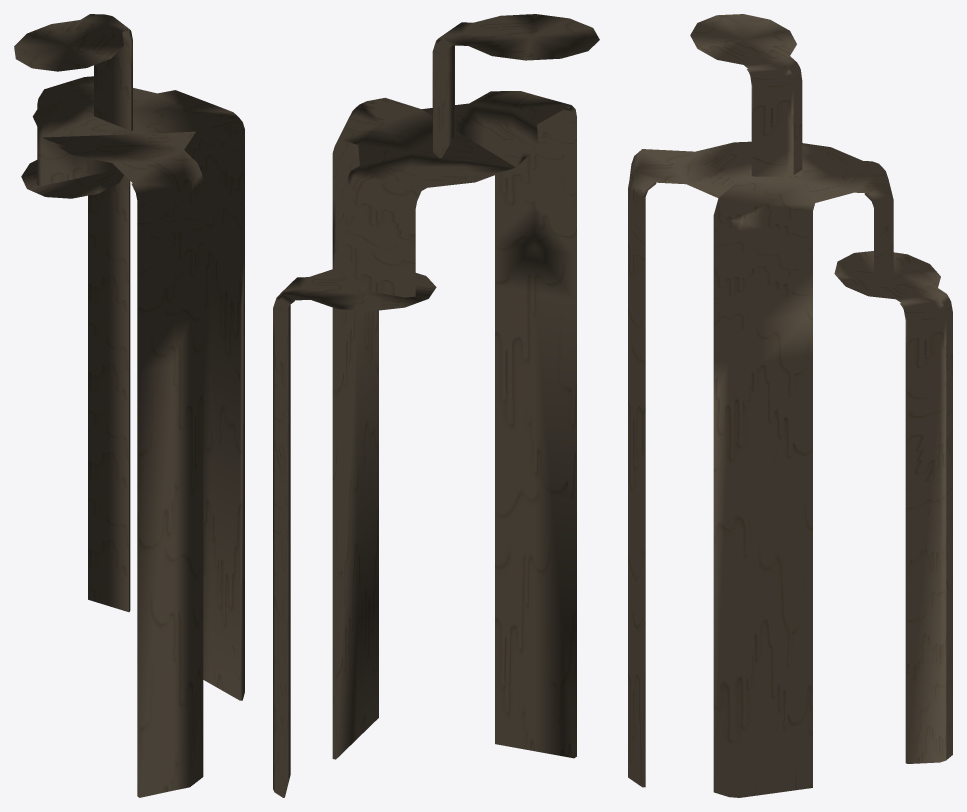
The model's file is stg220_MotChocoA_03.obj.
3 views of the same model, side by side, from view 1: azimuth 30°, elevation 25°; view 2: azimuth 150°, elevation 25°; view 3: azimuth 270°, elevation 25° (orthographic). The views are drawn at different scales.
Visible parts, largest first — view 1: polygon0; view 2: polygon0; view 3: polygon0.
Boxes of the visible parts, left/top/right/bottom form: polygon0: left=14, top=14, right=244, bottom=797; polygon0: left=273, top=14, right=599, bottom=797; polygon0: left=628, top=14, right=952, bottom=797.
Size of the model in its own units: 613 by 1873 by 779.
1 material, 1 textured.
